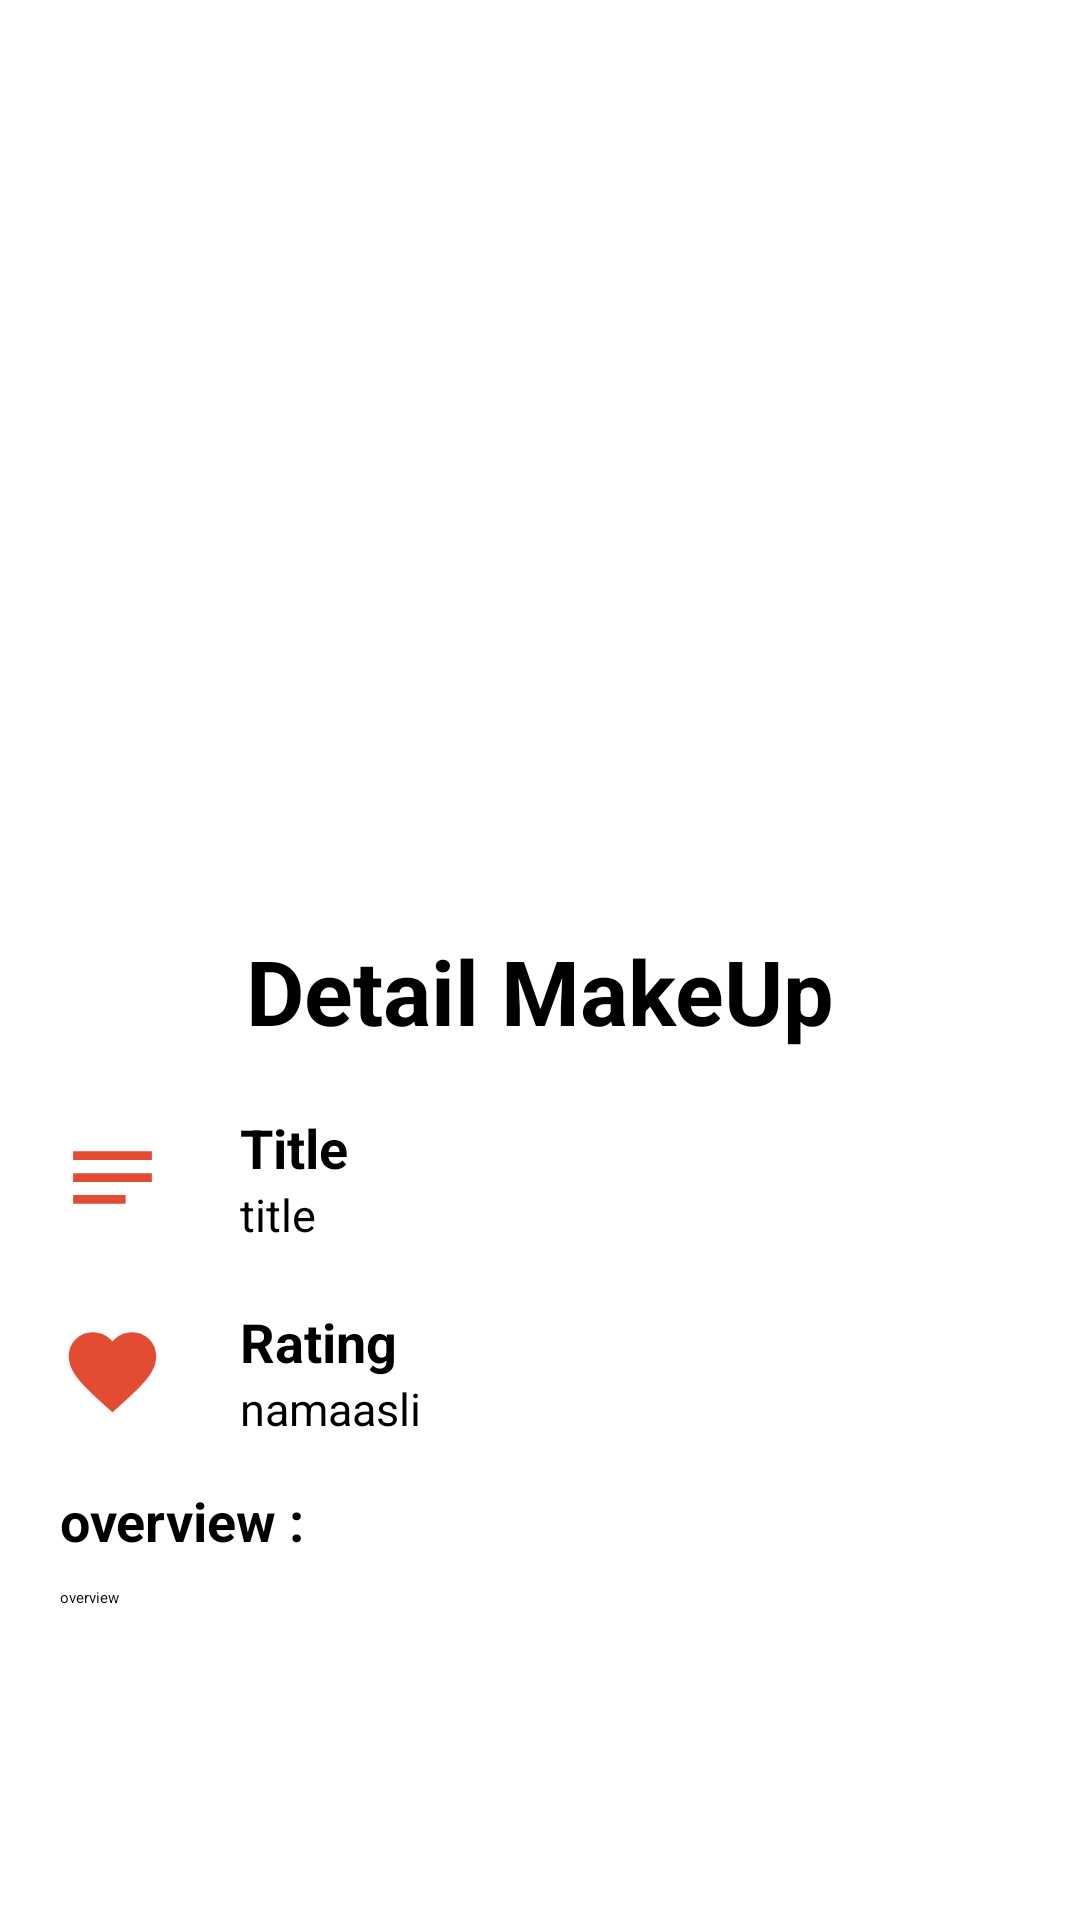

Where to tap for icons on this 1080 x 1920 app screen, as point (x, y):
favorite: point (112, 1372)
notes: point (112, 1177)
